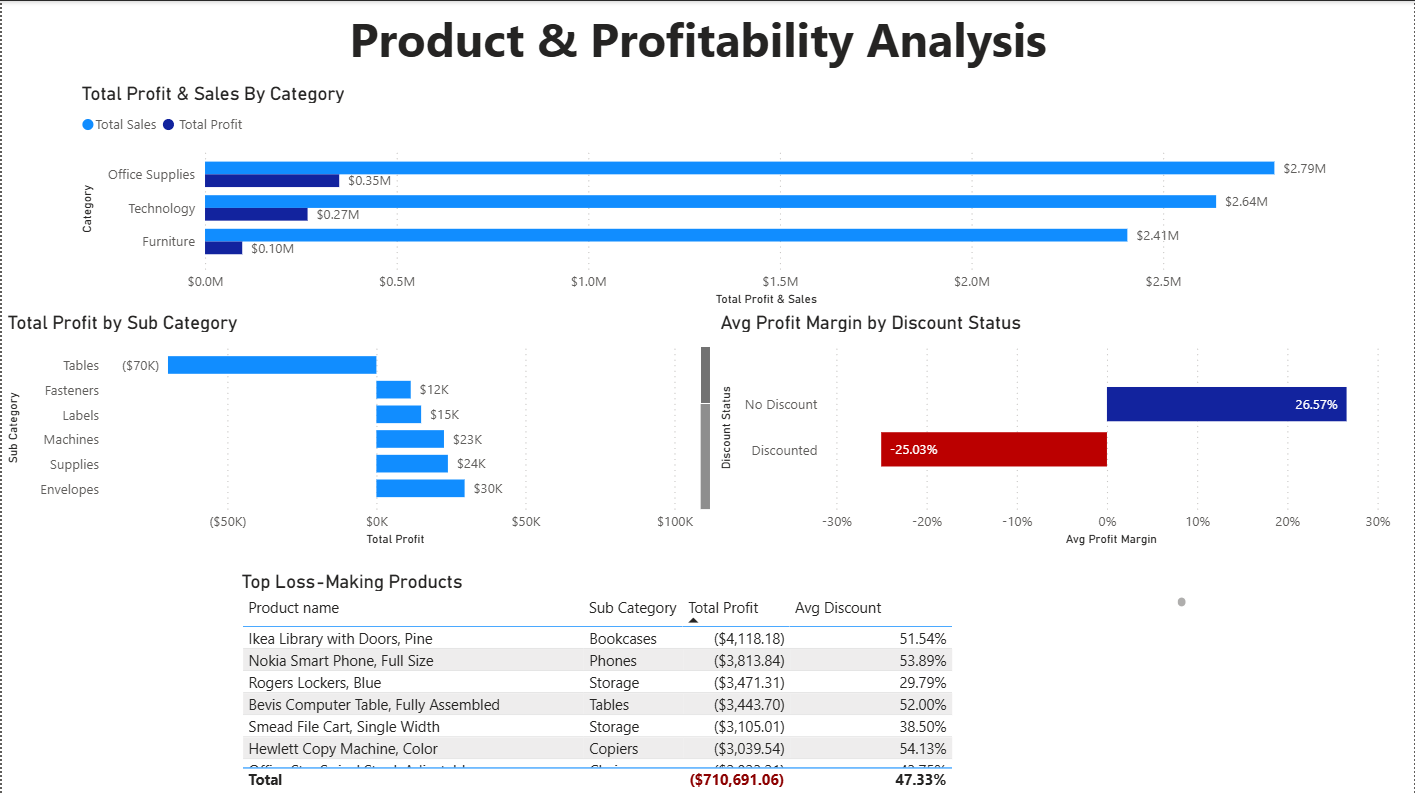

What the dashboard file says about the page in this screenshot:
{"tool":"powerbi","page":{"name":"Product and Profitability Analysis","canvas":[1280,720],"ordinal":1},"visuals":[{"type":"clusteredBarChart","title":"Total Profit & Sales By Category","fields":{"Category":["public vw_category_performance.category"],"Y":["Sum(public vw_category_performance.total_sales)","Sum(public vw_category_performance.total_profit)"]},"box":[67,61.3,1157.4,208.5],"z":0},{"type":"clusteredBarChart","fields":{"Category":["public vw_subcategory_profitability.sub_category"],"Y":["Sum(public vw_subcategory_profitability.total_profit)"]},"box":[0,269.8,646.1,229.2],"z":1000},{"type":"clusteredBarChart","fields":{"Category":["public vw_discount_impact.discount_flag"],"Y":["Avg(public vw_discount_impact.avg_profit_margin)"]},"box":[646.1,269.8,633.9,229.2],"z":2000},{"type":"tableEx","title":"Top Loss-Making Products","fields":{"Values":["public vw_negative_profit_products.product_name","public vw_negative_profit_products.sub_category","Sum(public vw_negative_profit_products.total_profit)","Avg(public vw_negative_profit_products.avg_discount)"]},"box":[212.2,516,866.9,203.7],"z":3000}]}

Visuals, with their boxes in screenshot pixels (x1, y1, x2, y2), scaled from the page's 1280x720 canvas onto the 1415x795 screenshot:
"Total Profit & Sales By Category" clusteredBarChart: [74, 68, 1354, 298]
clusteredBarChart - public vw_subcategory_profitability.sub_category x Sum(public vw_subcategory_profitability.total_profit): [0, 298, 714, 551]
clusteredBarChart - public vw_discount_impact.discount_flag x Avg(public vw_discount_impact.avg_profit_margin): [714, 298, 1414, 551]
"Top Loss-Making Products" tableEx: [235, 570, 1193, 794]
